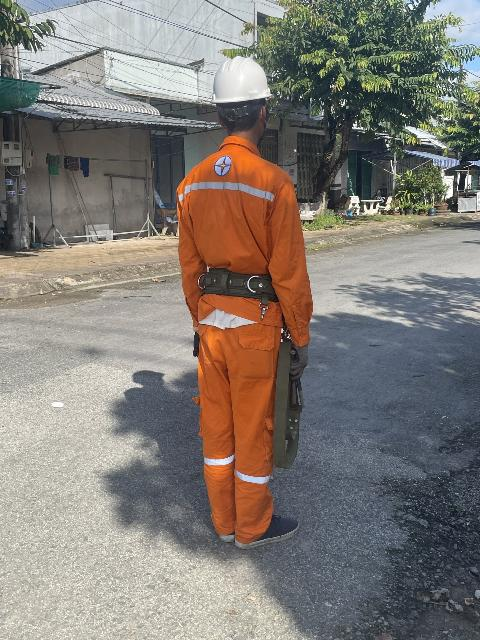gloves: (276, 322, 314, 390), (181, 323, 206, 363)
harness: (190, 259, 299, 307)
helmet: (198, 55, 280, 112)
shoes: (239, 512, 309, 544), (198, 513, 238, 554)
